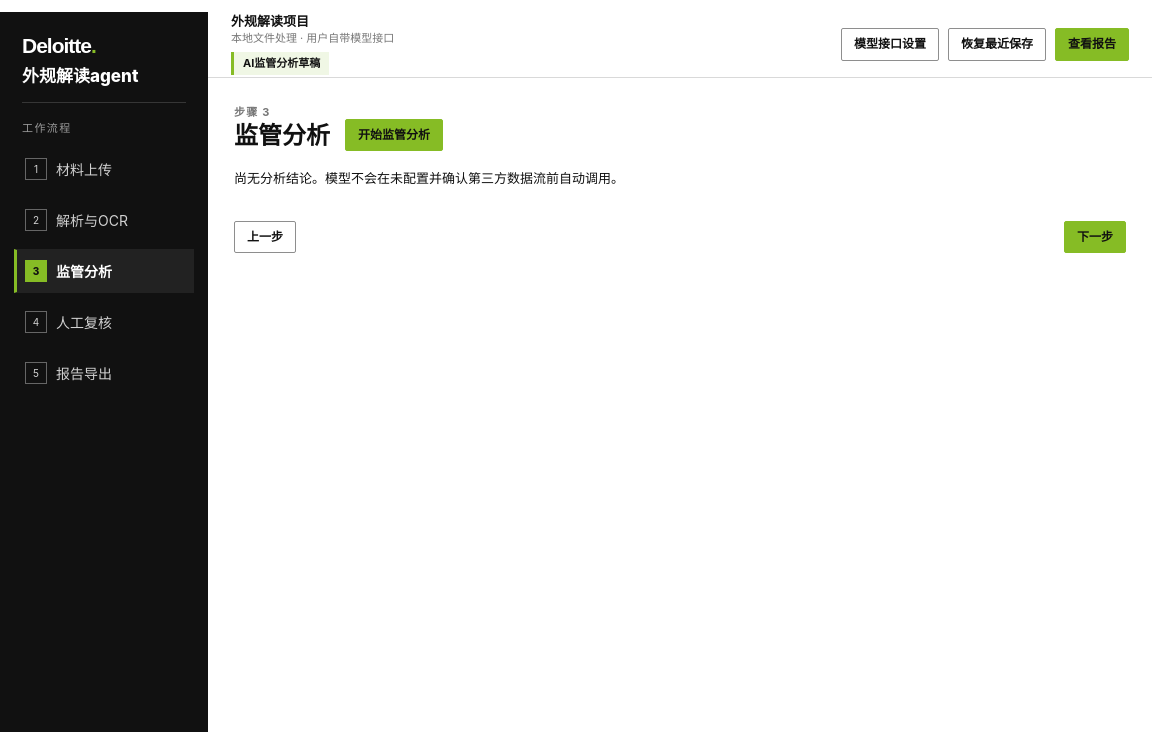
Test case: redacts arbitrary analysis failures from the DOM
The image size is (1152, 732).
Step 1. Click the button "开始监管分析" → (394, 135), box top-left (345, 119), bottom-right (443, 151)
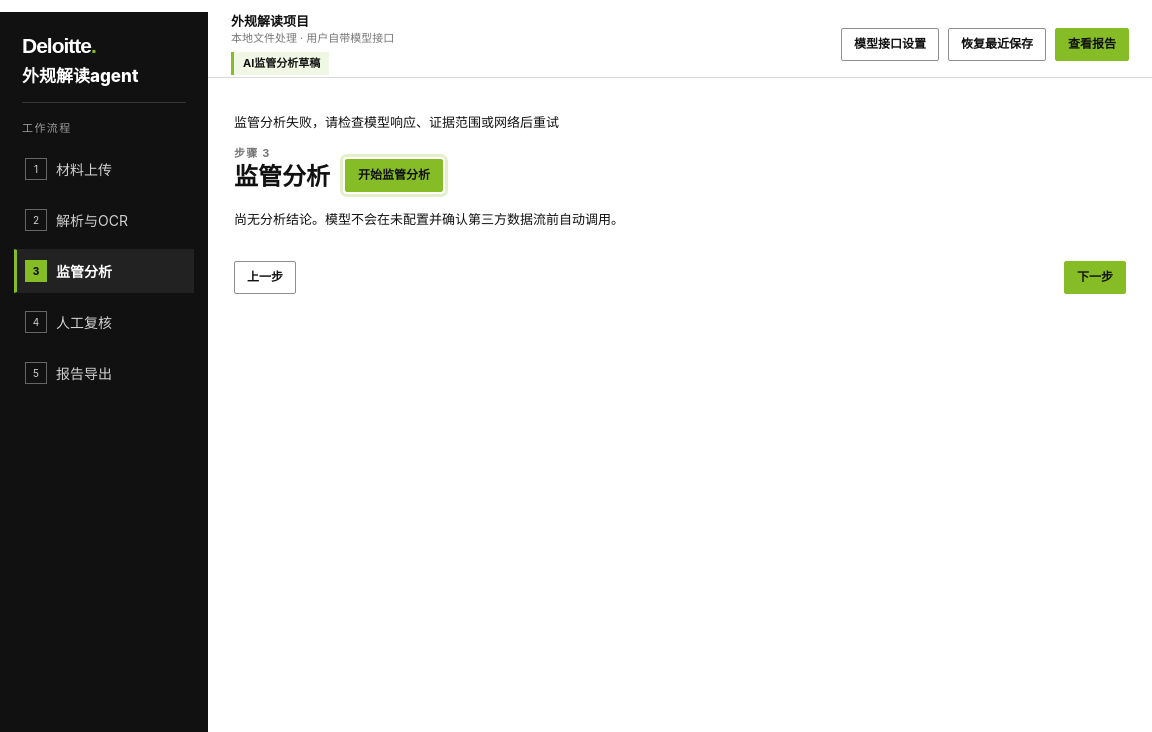
Expected: the message does not show "第一条 原文", top-left (234, 114), bottom-right (559, 130)
Expected: the message shows "监管分析失败", top-left (234, 114), bottom-right (559, 130)
